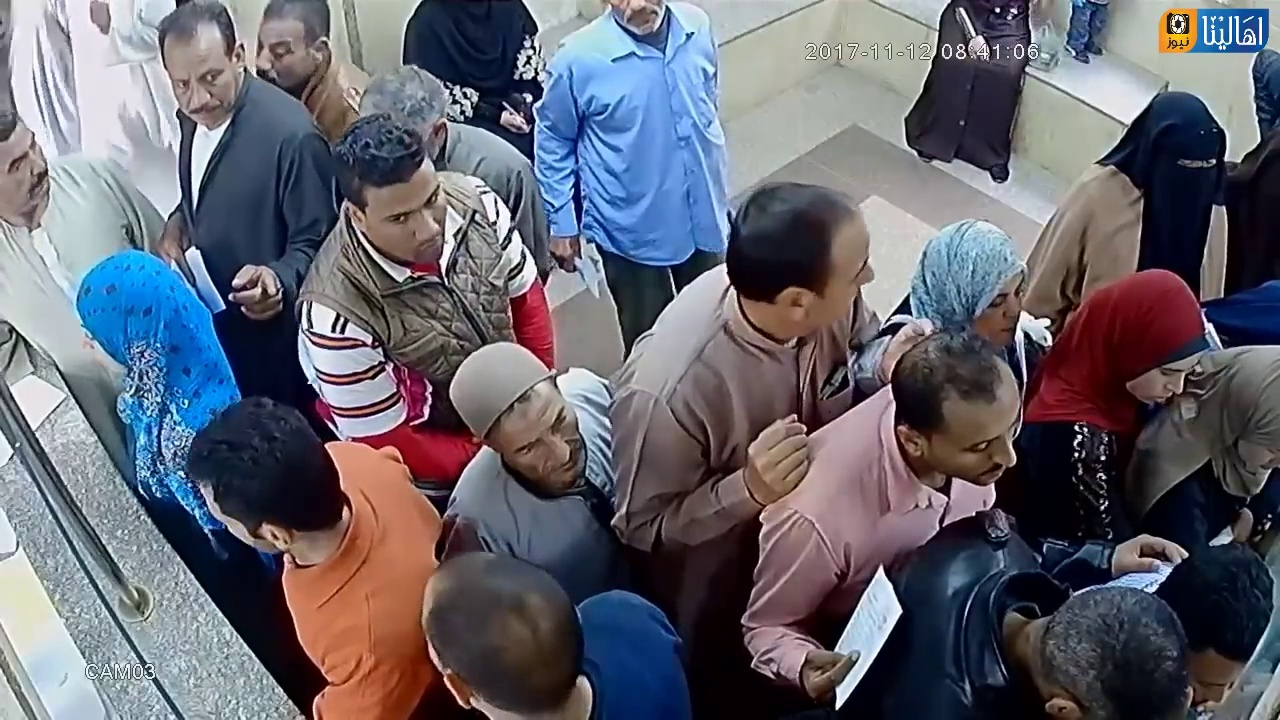face: (488, 398, 599, 488), (360, 176, 450, 268), (947, 402, 1037, 492), (174, 33, 230, 130), (258, 16, 306, 98), (1125, 352, 1188, 412), (0, 136, 50, 209), (972, 272, 1024, 341), (1175, 138, 1221, 197)
